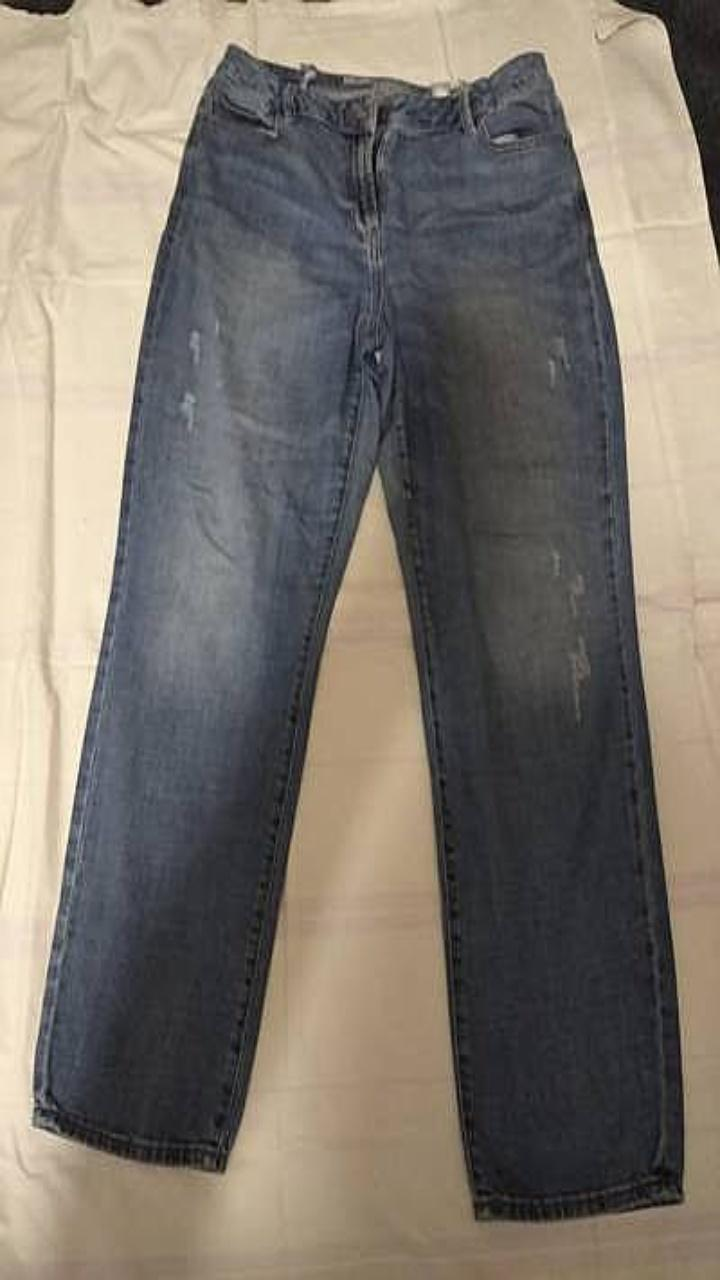Jeans: (32, 44, 682, 1218)
